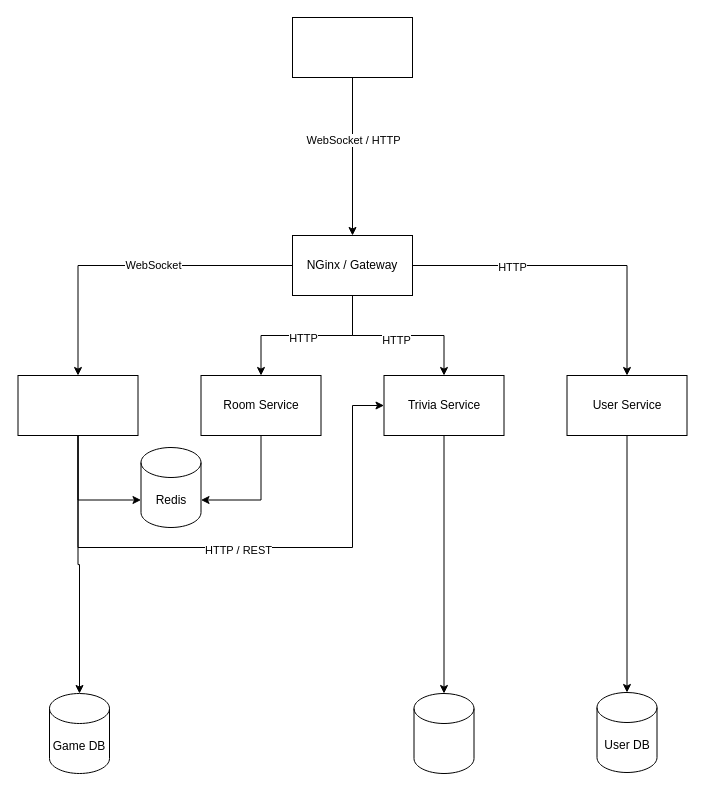
The diagram is 704 pixels wide and 791 high, and some of its shapes have lost their labels. The centre of each missing label's shape, as x and y in pixels:
"Front End" belongs at point 352,47.
"Game Service" belongs at point 77,405.
"Trivia DB" belongs at point 443,733.
